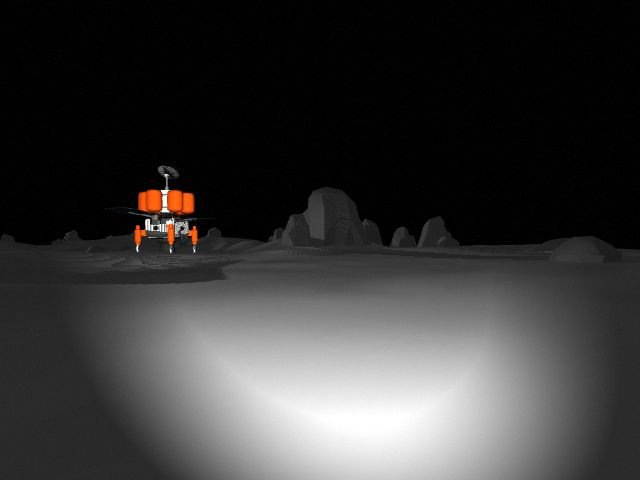homebase: (111, 162, 213, 256)
